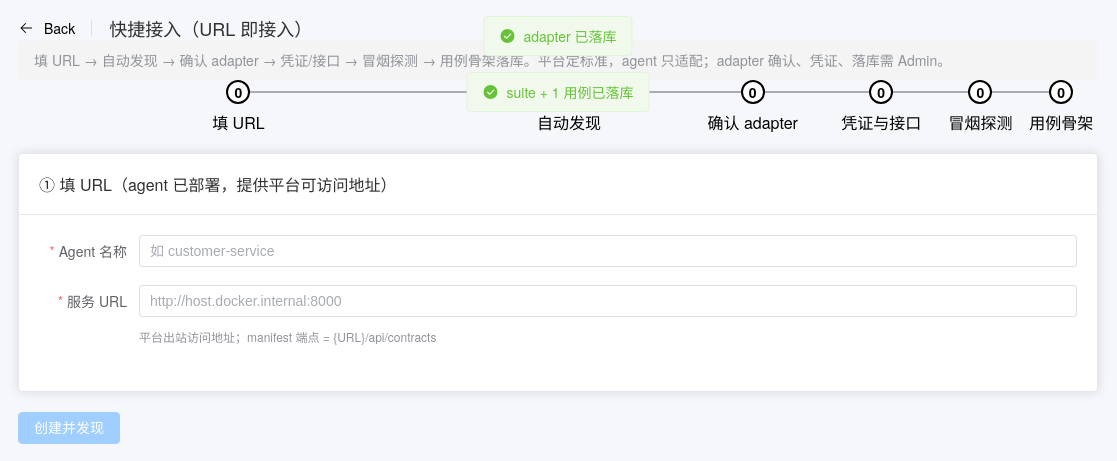
Scenario: 发现失败诊断（Q7 hook 修复回归） › discover ok=false → 前移到自动发现卡片展示错误 + 修改 URL 重试
The image size is (1117, 461).
Type "demo" into the field with placeholder "如 customer-service" at (608,251), box x1=150 y1=236 x2=1066 y2=266
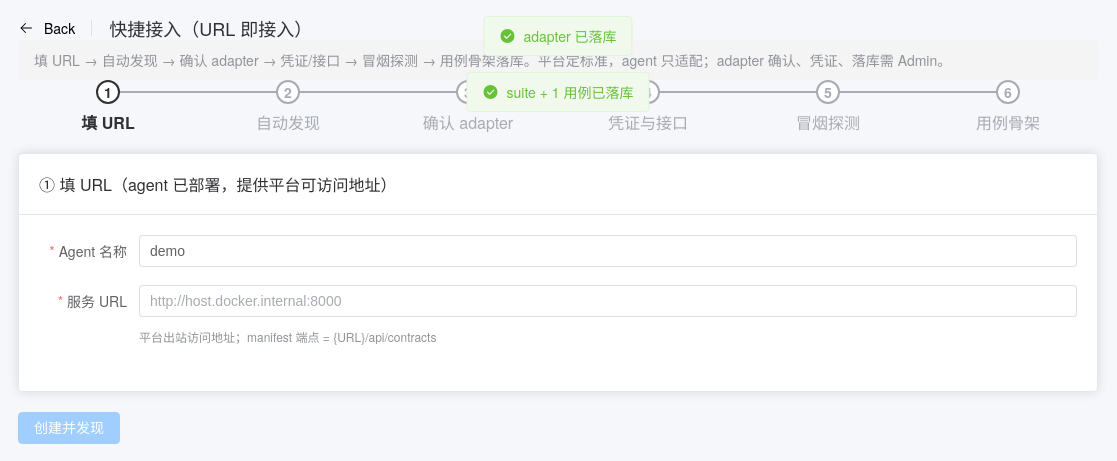
Type "http://localhost:8000" into the field labelled "服务 URL" at (608,301), box x1=150 y1=286 x2=1066 y2=316
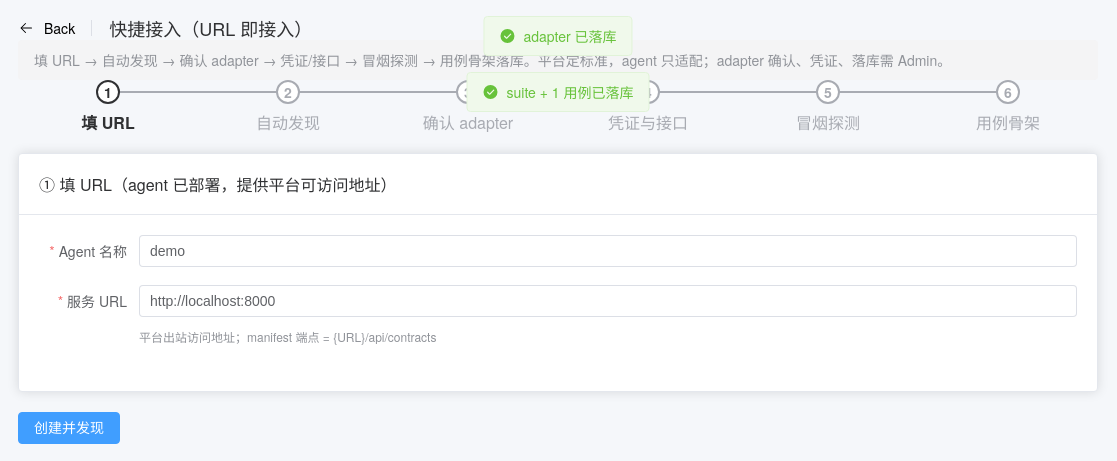
Click the button "创建并发现" at (69,428), box x1=18 y1=412 x2=120 y2=444
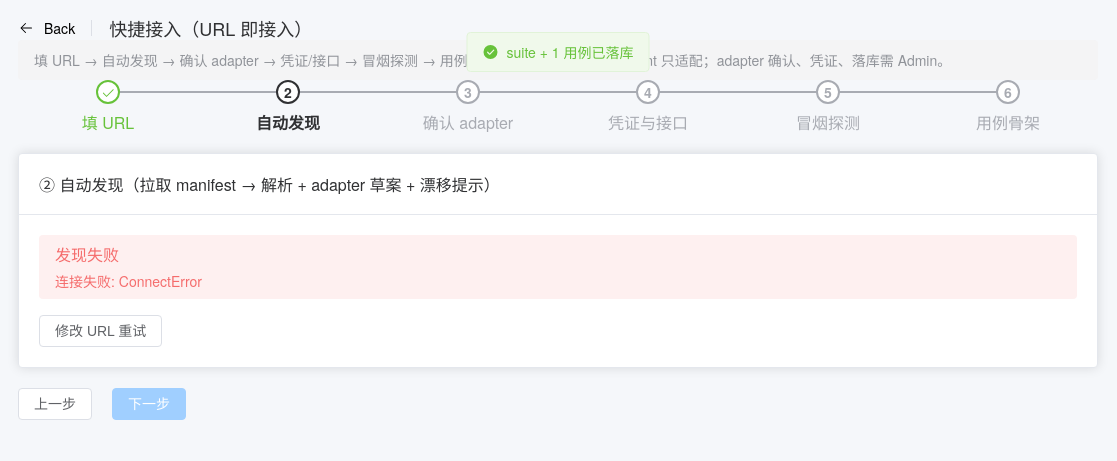
Result: the text "发现失败" is shown at x1=55 y1=243 x2=119 y2=266
Result: the text "连接失败: ConnectError" is shown at x1=55 y1=271 x2=202 y2=291
Result: the button "修改 URL 重试" is shown at x1=39 y1=315 x2=162 y2=347
